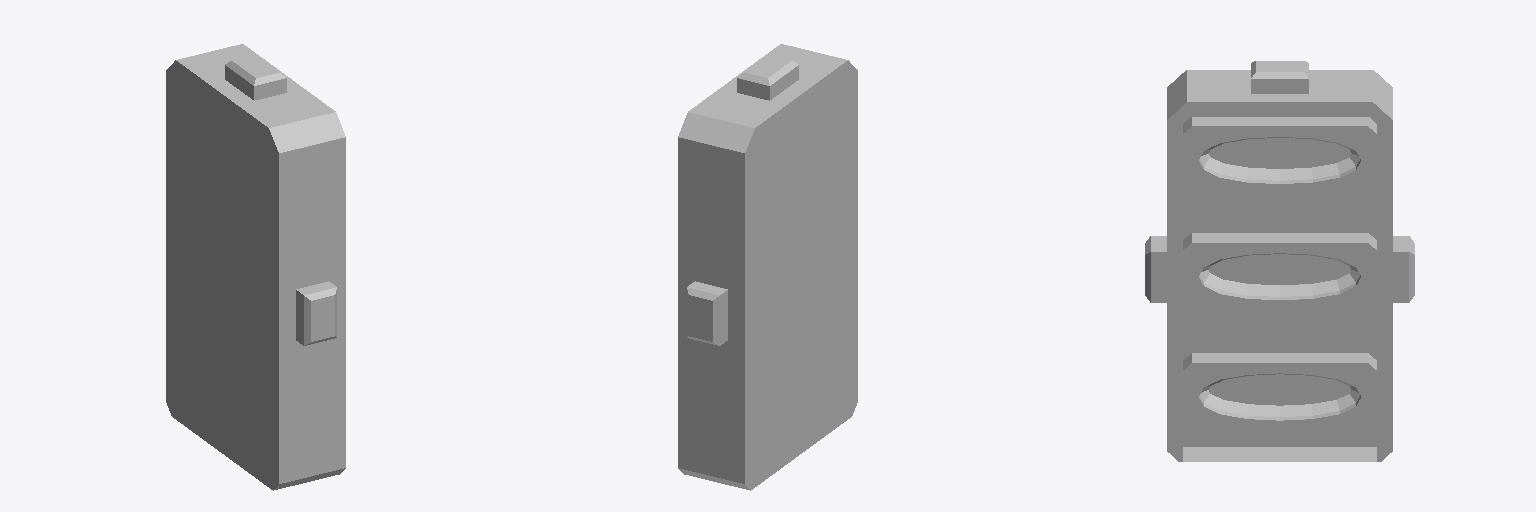
The model's file is trafficlight.obj.
3 views of the same model, side by side, from view 1: azimuth 30°, elevation 25°; view 2: azimuth 150°, elevation 25°; view 3: azimuth 270°, elevation 25° (orthographic).
Visible parts, largest first — view 1: Cube1; view 2: Cube1; view 3: Cube1.
Part boxes in pixels (x1,y1,x2,y2): Cube1: (166, 44, 345, 490); Cube1: (678, 44, 857, 490); Cube1: (1145, 61, 1414, 461).
Size of the model in its own units: 0.541 by 2.92 by 1.88.